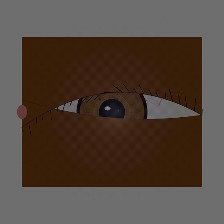pinguecula_lesion: (27, 99, 61, 126)
